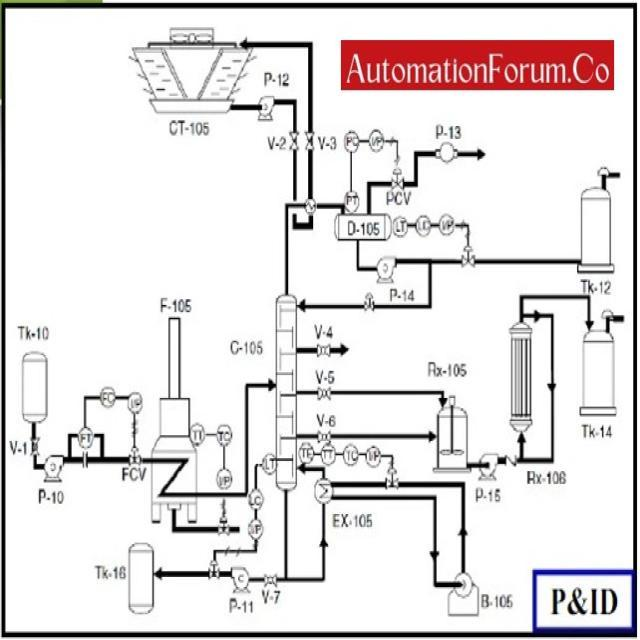Ball Valve: (314, 341, 334, 359), (314, 386, 332, 404), (262, 572, 279, 588), (317, 428, 330, 443)
Centrifugal Pump: (225, 562, 253, 596), (371, 253, 399, 286), (252, 91, 279, 124), (41, 452, 66, 484), (476, 450, 498, 480)
Check Valve: (502, 452, 518, 469)
Gate Valve: (301, 125, 315, 152), (287, 128, 300, 155)
Pneumatic-Diaphragm Gate Valve: (458, 244, 479, 270), (124, 442, 144, 468), (384, 465, 401, 492), (361, 288, 376, 316), (388, 166, 404, 190), (207, 556, 221, 582), (215, 514, 230, 538)
